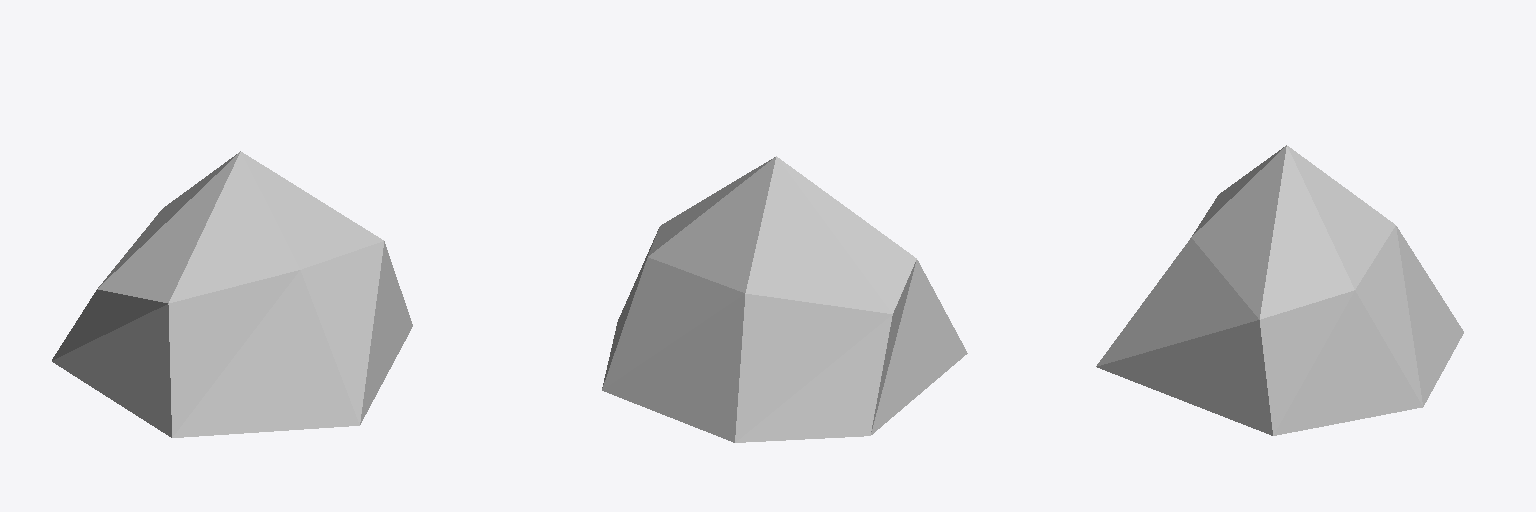
Rendered from rock.obj.
The picture shows the model from 3 angles: view 1: azimuth 30°, elevation 25°; view 2: azimuth 150°, elevation 25°; view 3: azimuth 270°, elevation 25°; orthographic projection.
Parts seen in each view (by area): view 1: Rock; view 2: Rock; view 3: Rock.
Part boxes in pixels (x1,y1,x2,y2): Rock: (52, 151, 412, 437); Rock: (602, 156, 967, 442); Rock: (1096, 145, 1463, 435).
Size of the model in its own units: 1.3 by 0.85 by 1.35.